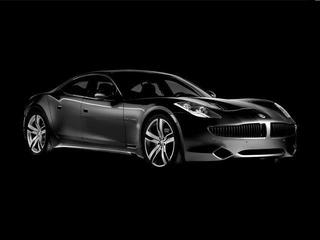car: (23, 67, 305, 178)
